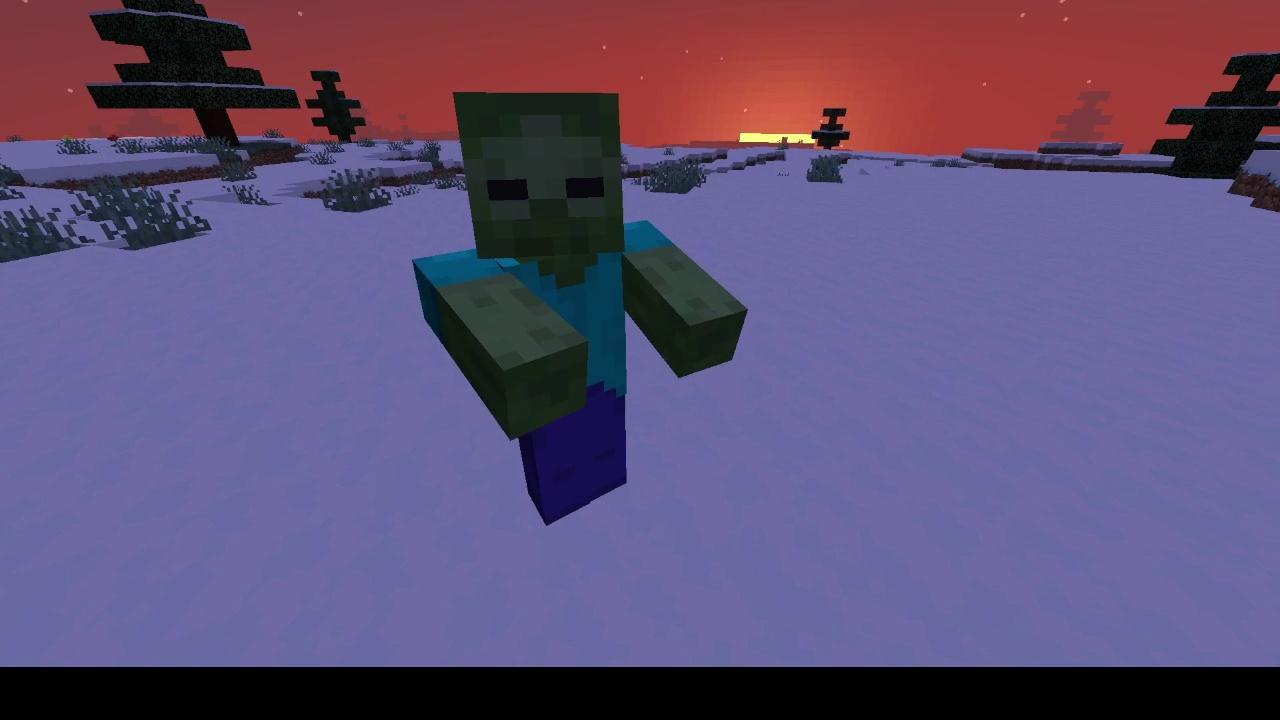zombie: (406, 87, 753, 533)
